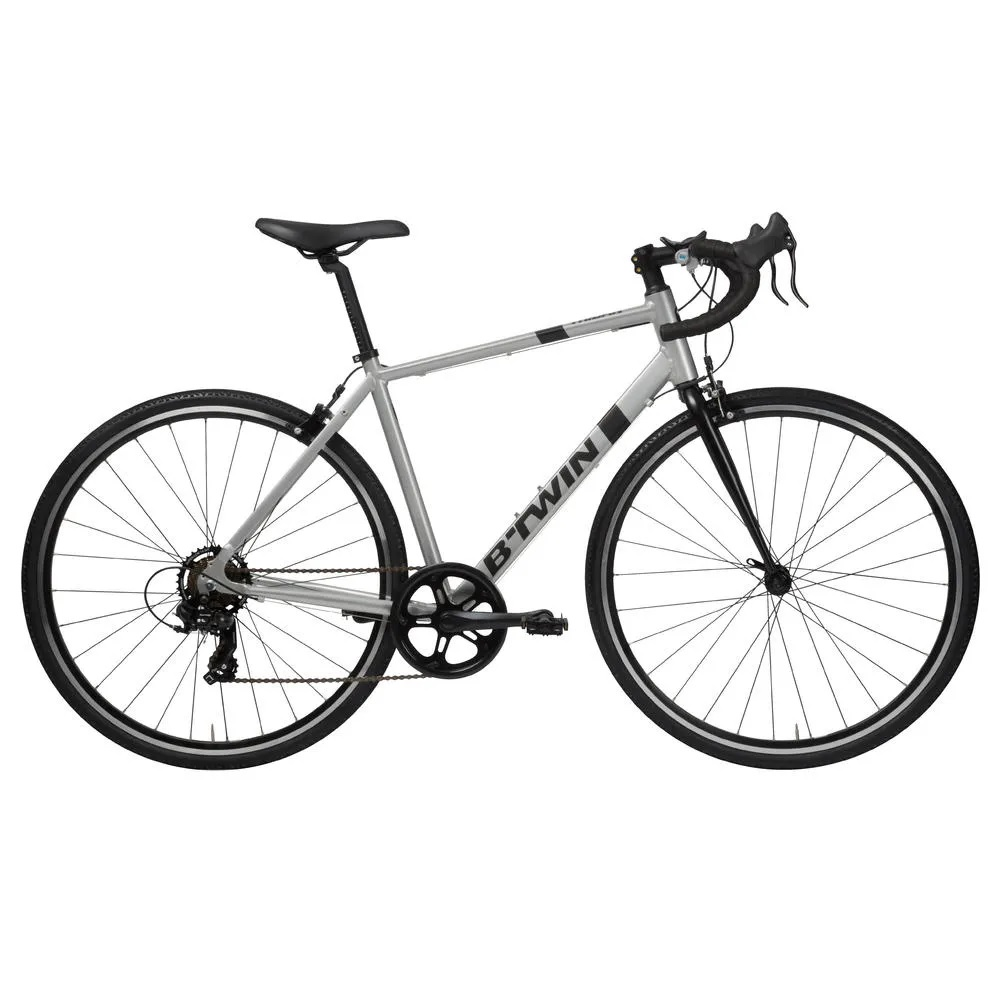RoadBike: (12, 52, 959, 991)
